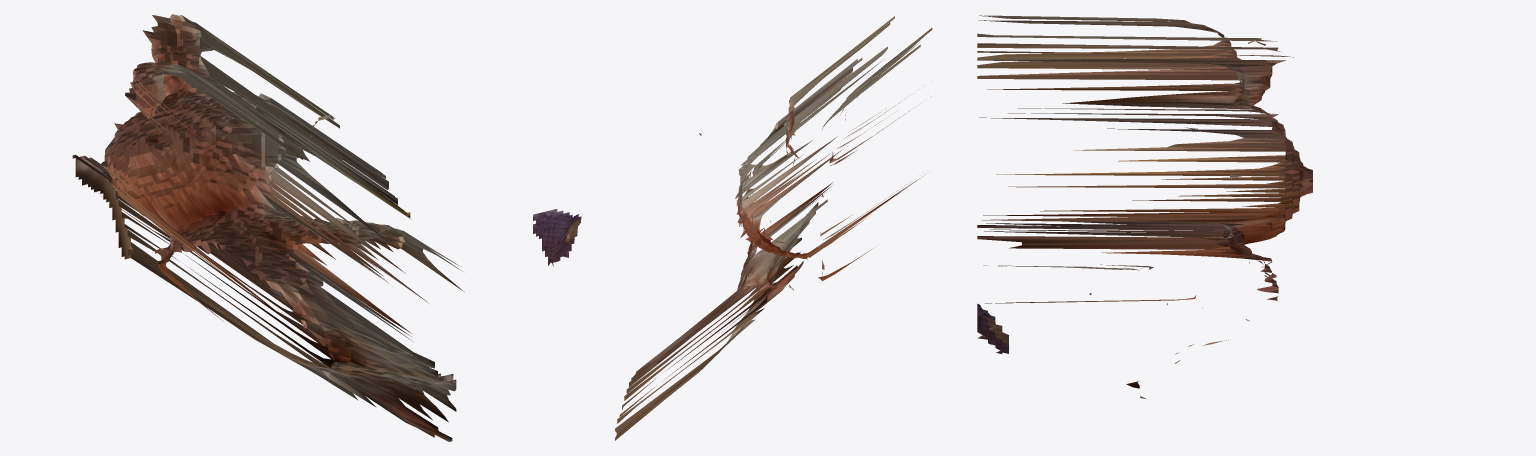
File: frame_00314.glb
3 views of the same model, side by side, from view 1: azimuth 30°, elevation 25°; view 2: azimuth 150°, elevation 25°; view 3: azimuth 270°, elevation 25° (orthographic). The views are drawn at different scales.
Visible parts, largest first — view 1: geometry_0; view 2: geometry_0; view 3: geometry_0.
Boxes of the visible parts, box(x1,y1,x2,y2) form: geometry_0: box(72, 14, 581, 441); geometry_0: box(615, 16, 932, 440); geometry_0: box(977, 15, 1312, 398).
Size of the model in its own units: 0.107 by 0.1154 by 0.16.
Materials: 1 (1 with a texture image).
